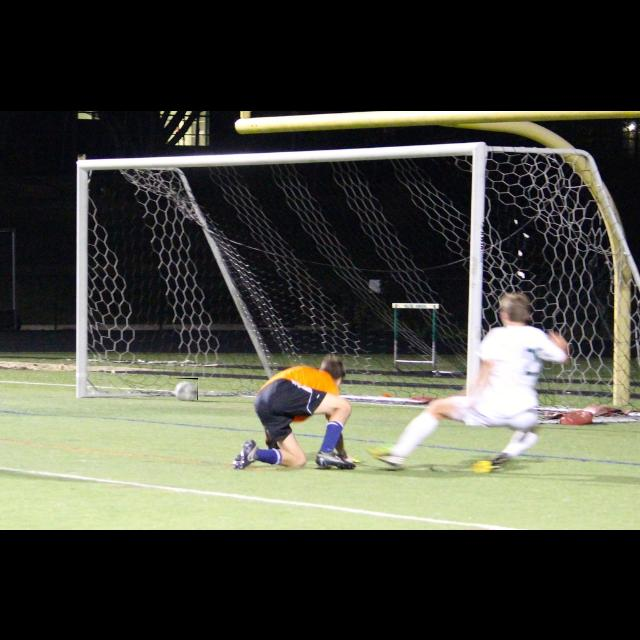Football: (172, 378, 198, 400)
